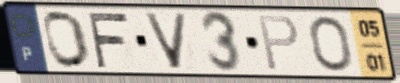3: (200, 8, 243, 77)
F: (84, 10, 131, 70)
O: (41, 9, 93, 71), (307, 14, 355, 74)
P: (256, 14, 301, 73)
V: (141, 11, 191, 71)
